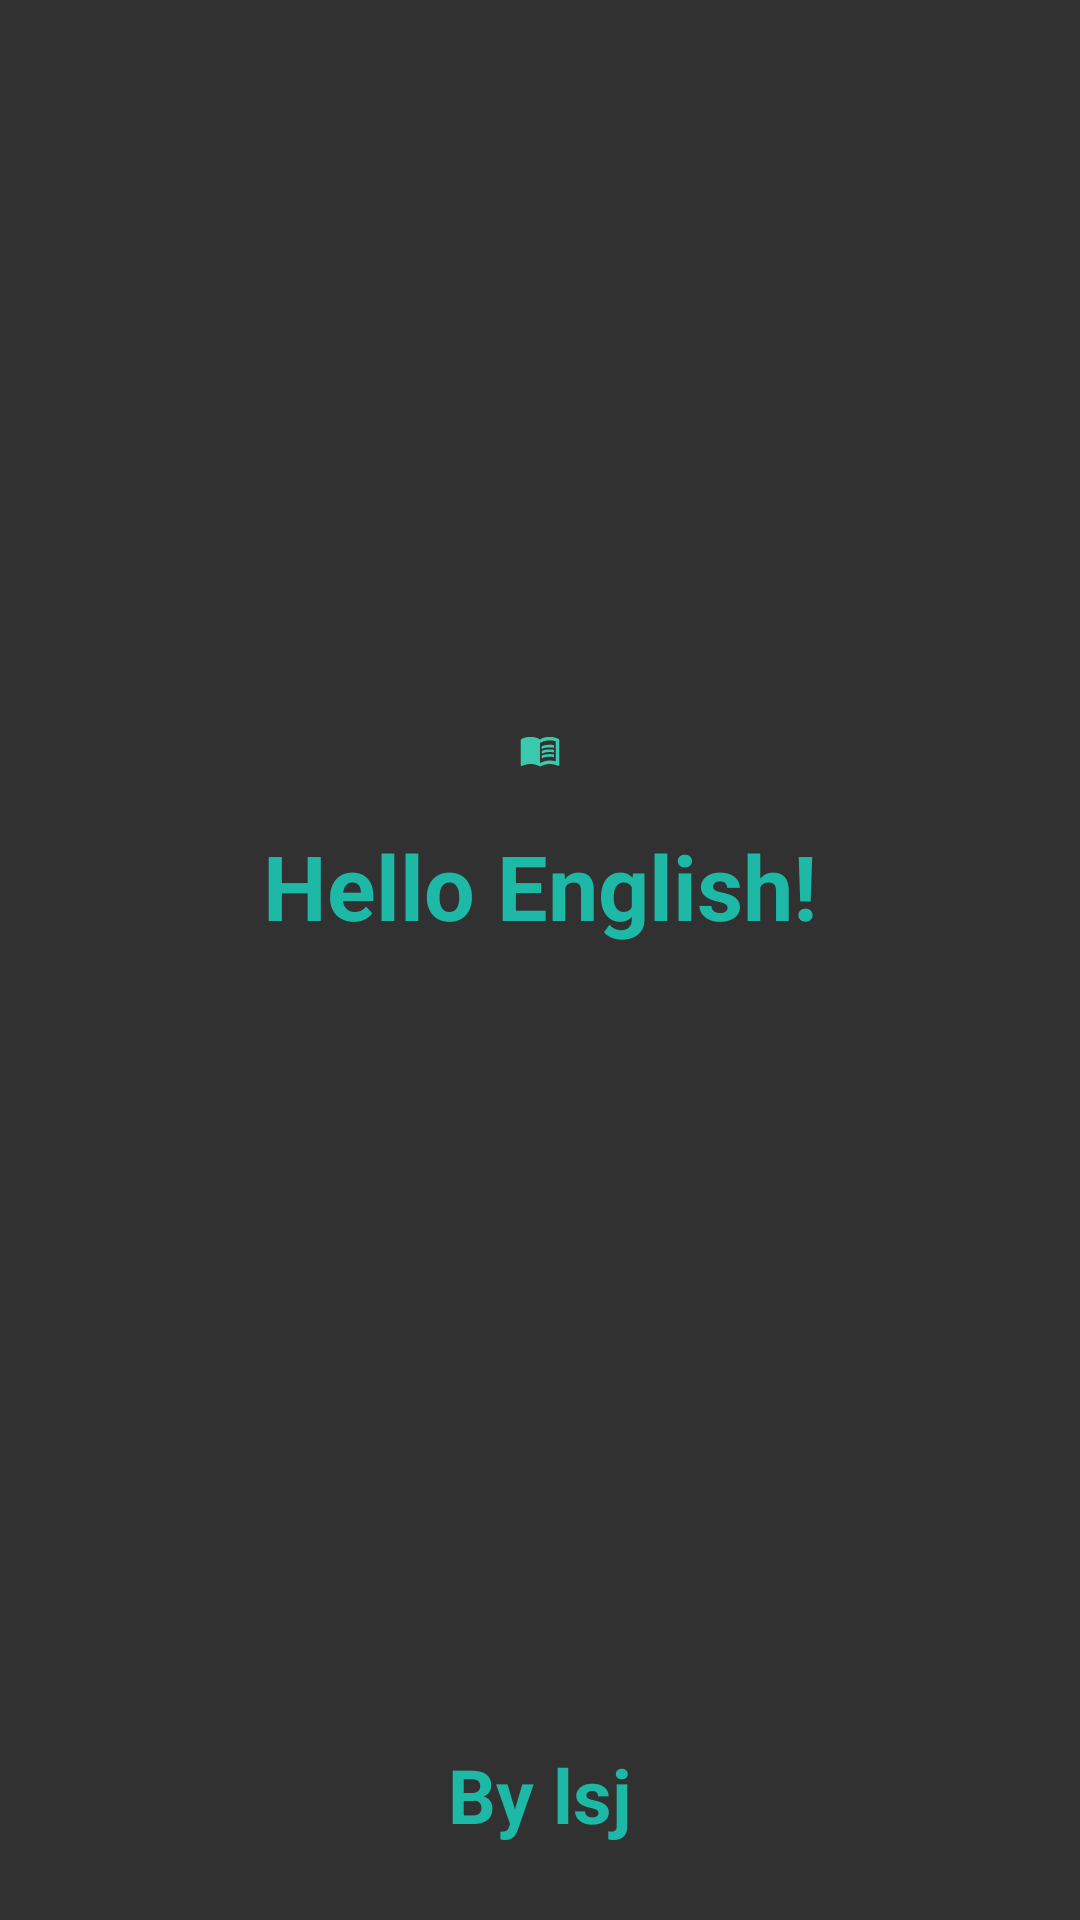

Screen size 1080w x 1920h. Icon name, then its center in pixels as [x,y]:
book: [540,752]
